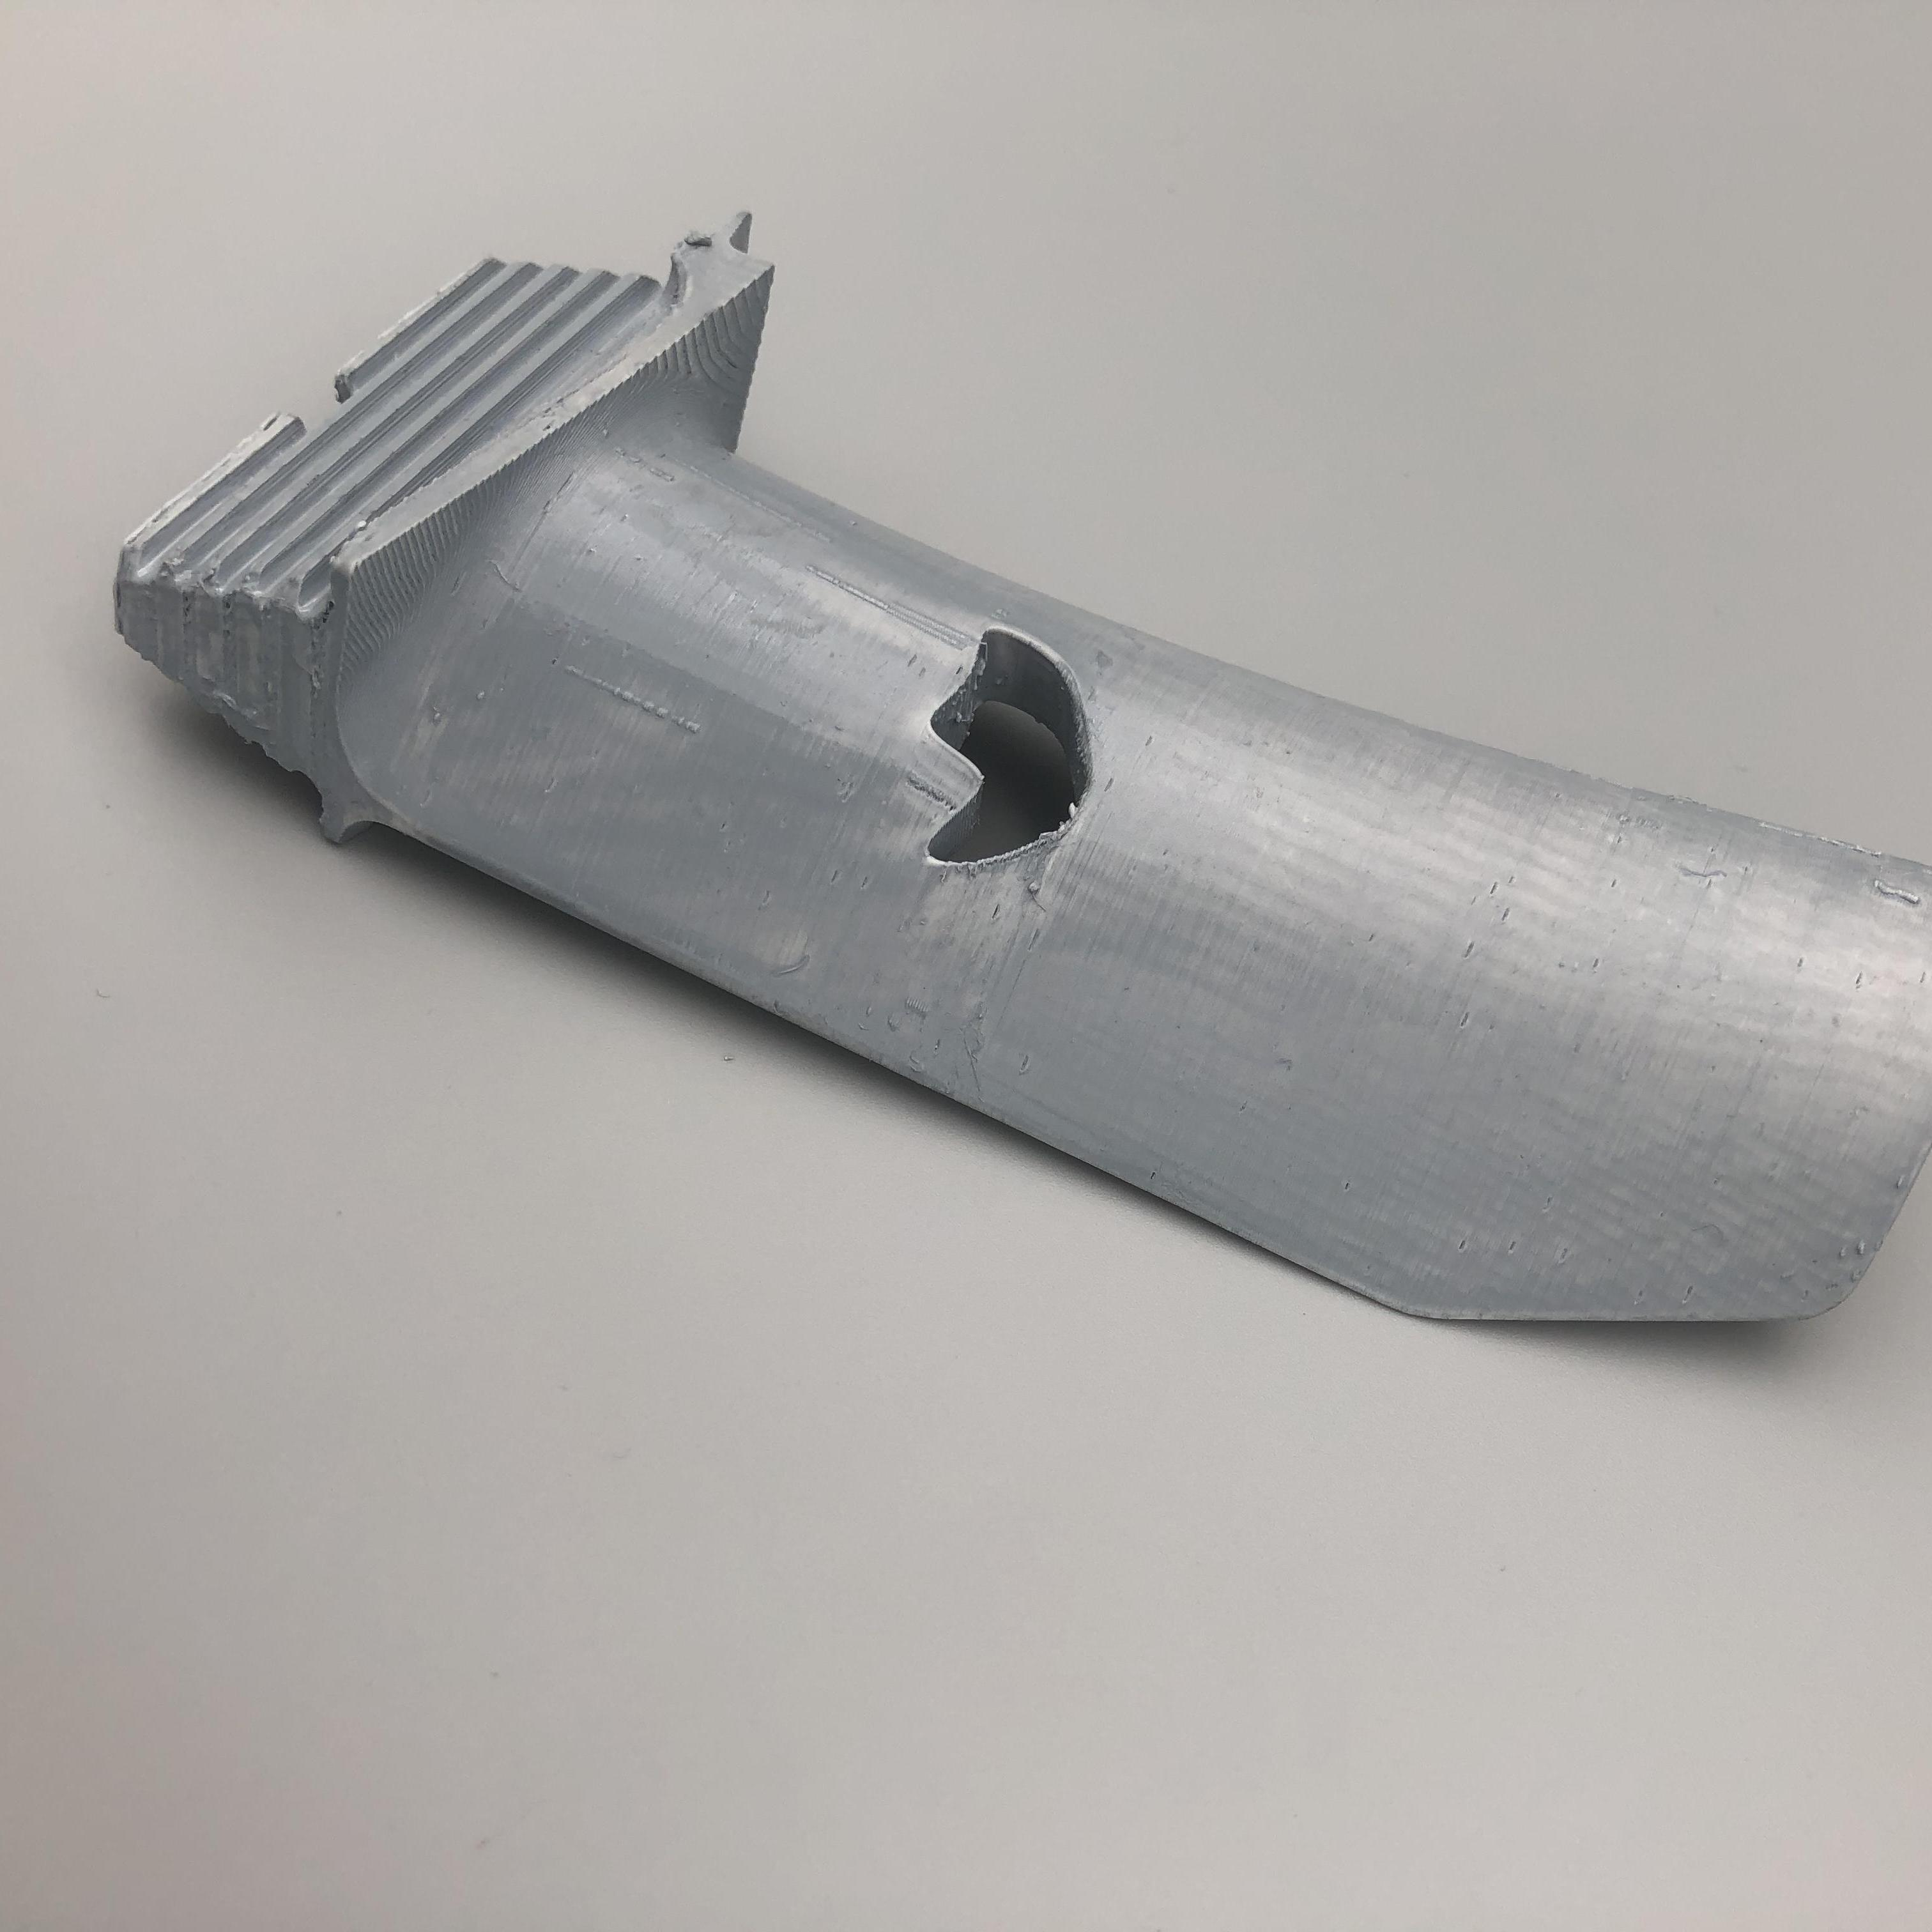breakdown: (897, 593, 1118, 872)
